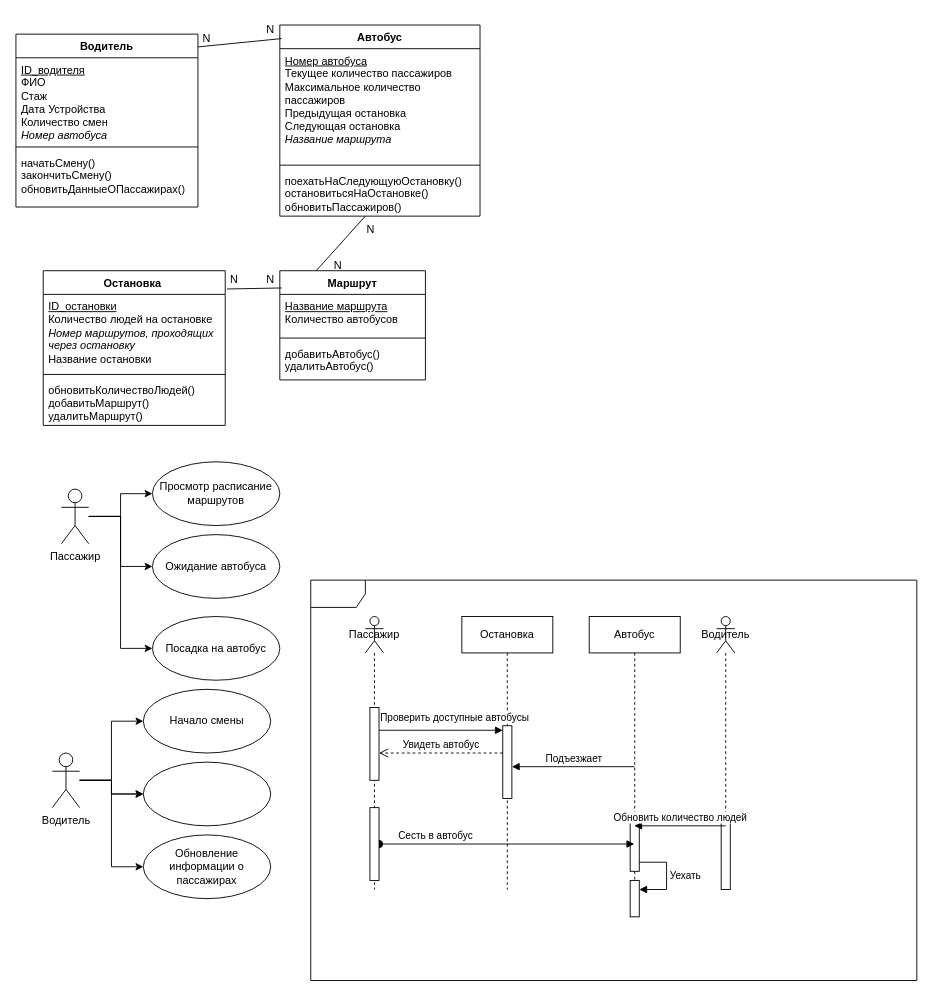
The diagram is 933 pixels wide and 996 high, and some of its shapes have lost their labels. Here are the shapes that lost their labels. From the top down, the box of each, then its label:
(142, 761, 271, 826): Управление автобусом
(310, 579, 917, 981): Посадка пассажира в автобус
